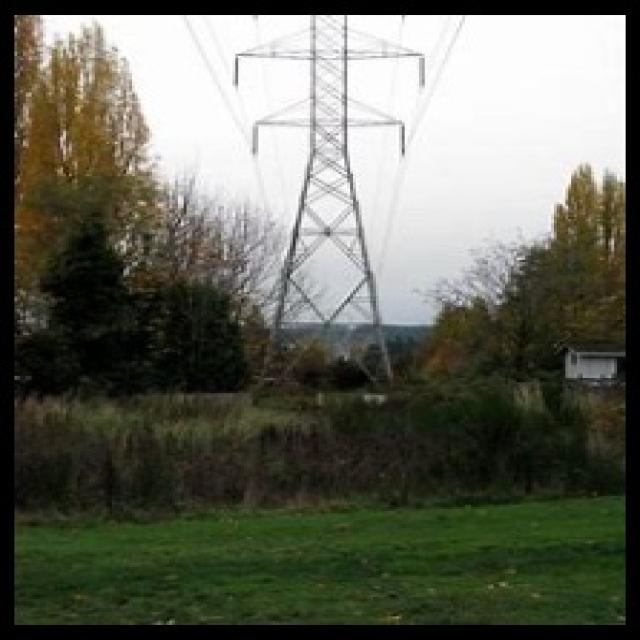utility poles: (204, 282, 324, 417), (339, 333, 477, 438)
